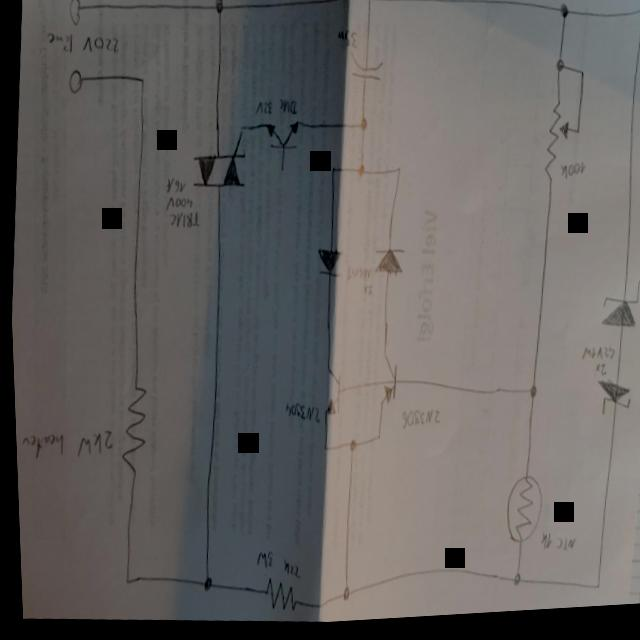capacitor: (346, 55, 385, 90)
diode: (596, 283, 640, 340), (590, 382, 632, 427), (370, 251, 404, 281), (312, 252, 341, 285)
junction: (557, 9, 571, 31), (197, 576, 210, 598), (213, 0, 225, 20), (336, 588, 347, 608), (553, 64, 565, 82), (507, 576, 518, 595), (357, 121, 368, 139), (525, 390, 536, 407), (355, 167, 365, 183), (345, 442, 354, 458), (118, 576, 128, 590), (577, 74, 586, 87), (237, 127, 246, 140), (372, 438, 380, 448), (365, 0, 373, 9), (394, 170, 402, 179), (138, 78, 145, 88), (328, 170, 335, 178), (318, 449, 325, 457), (574, 134, 580, 142), (590, 590, 596, 598), (637, 12, 640, 24)
resistor: (114, 383, 149, 483), (498, 479, 541, 553), (538, 106, 573, 191), (258, 578, 294, 618)
terminal: (66, 69, 84, 98), (66, 0, 83, 29)
text: (16, 428, 63, 463), (71, 425, 113, 464), (80, 32, 121, 62), (280, 402, 319, 432), (397, 410, 438, 437), (44, 29, 75, 57), (166, 211, 199, 234), (557, 167, 585, 189), (163, 197, 192, 215), (344, 268, 371, 287), (163, 177, 187, 198), (250, 552, 271, 575), (277, 560, 297, 583), (276, 100, 297, 121), (335, 33, 357, 53), (551, 543, 572, 561), (253, 102, 273, 120), (593, 352, 613, 369), (578, 351, 594, 369), (536, 537, 548, 558), (591, 369, 605, 385), (360, 287, 371, 303)
transistor: (373, 355, 397, 412), (318, 369, 342, 421)
